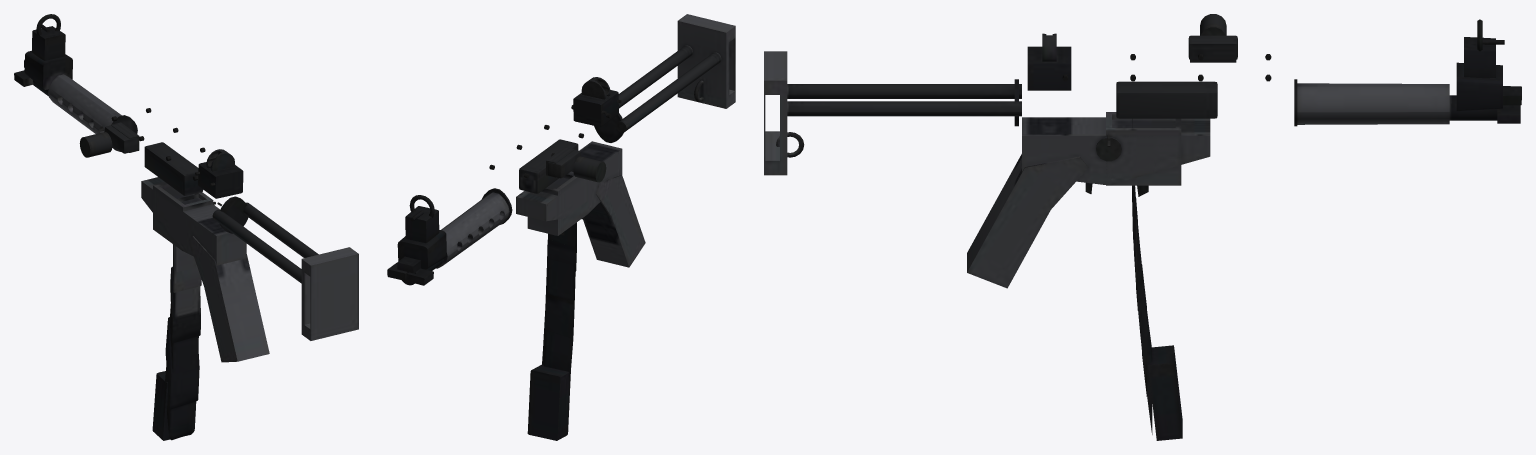
File: W_smg_mp5.glb
3 renders of one model, left to right at view 1: azimuth 30°, elevation 25°; view 2: azimuth 150°, elevation 25°; view 3: azimuth 270°, elevation 25°, orthographic. The views are drawn at different scales.
Parts seen in each view (by area): view 1: W_smg_mp5; view 2: W_smg_mp5; view 3: W_smg_mp5.
Part boxes in pixels (x1=…): W_smg_mp5: x1=14, y1=14, x2=358, y2=440; W_smg_mp5: x1=387, y1=14, x2=735, y2=440; W_smg_mp5: x1=764, y1=14, x2=1521, y2=440.
Size of the model in its own units: 0.0948 by 0.3134 by 0.523.
1 material, 1 textured.
